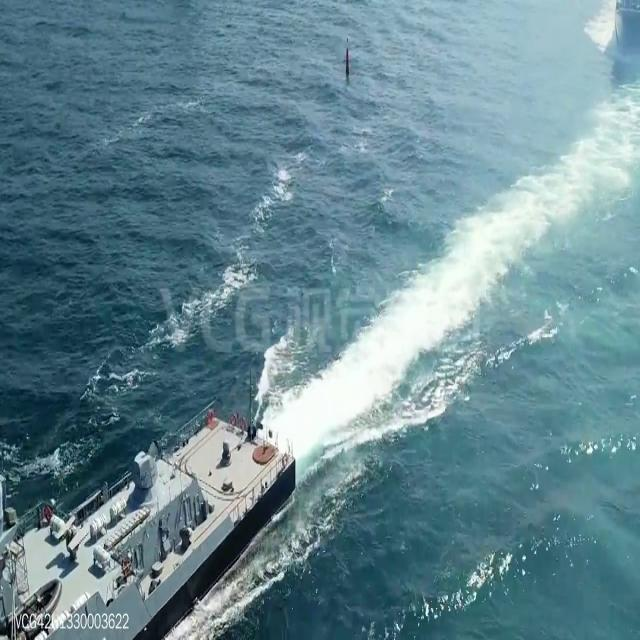navalvessels: (0, 382, 300, 640)
